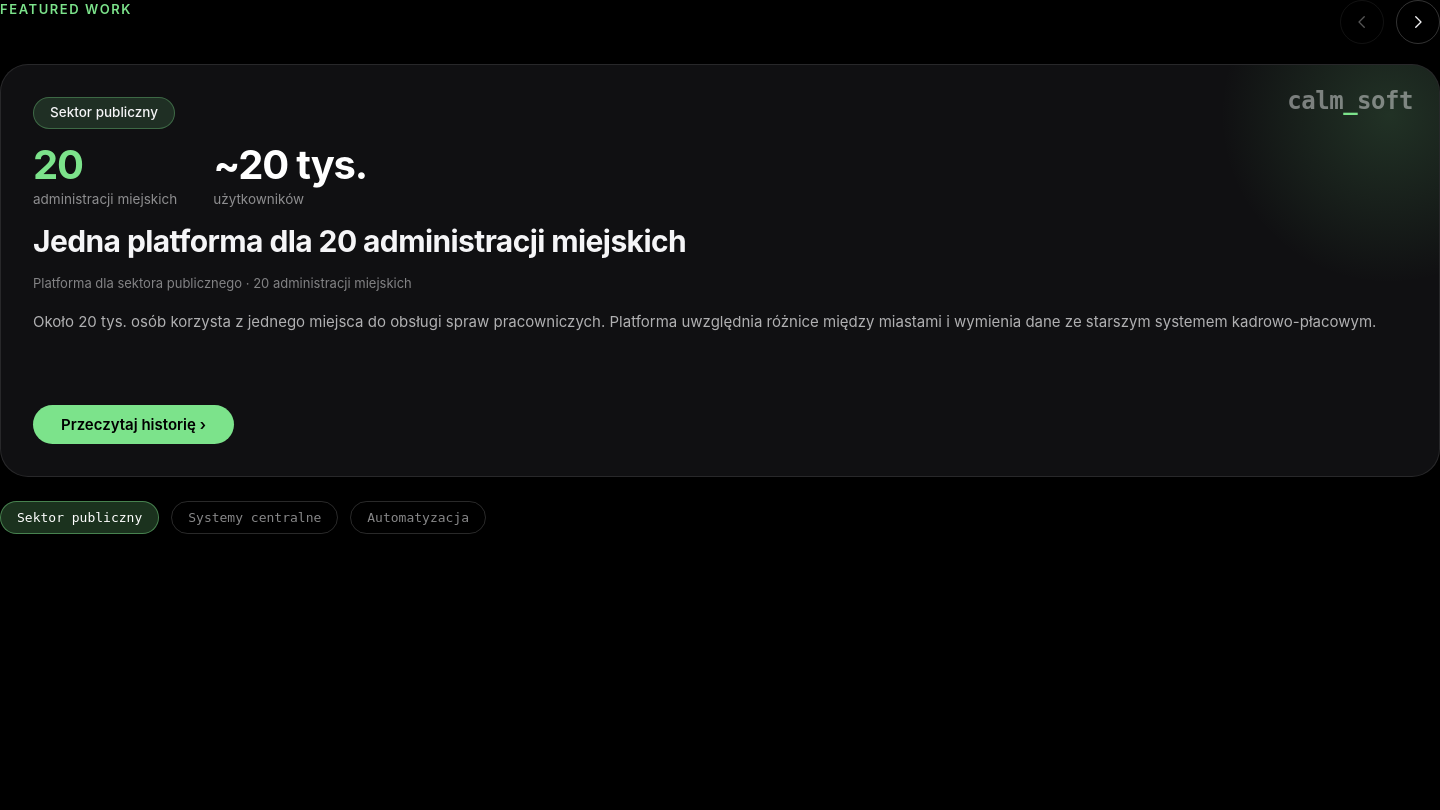
HeroCaseSlider › clicking a case's CTA opens the case modal with that case's headline
Click the button "Przeczytaj historię ›": (133, 425) 33,405 -> 234,444
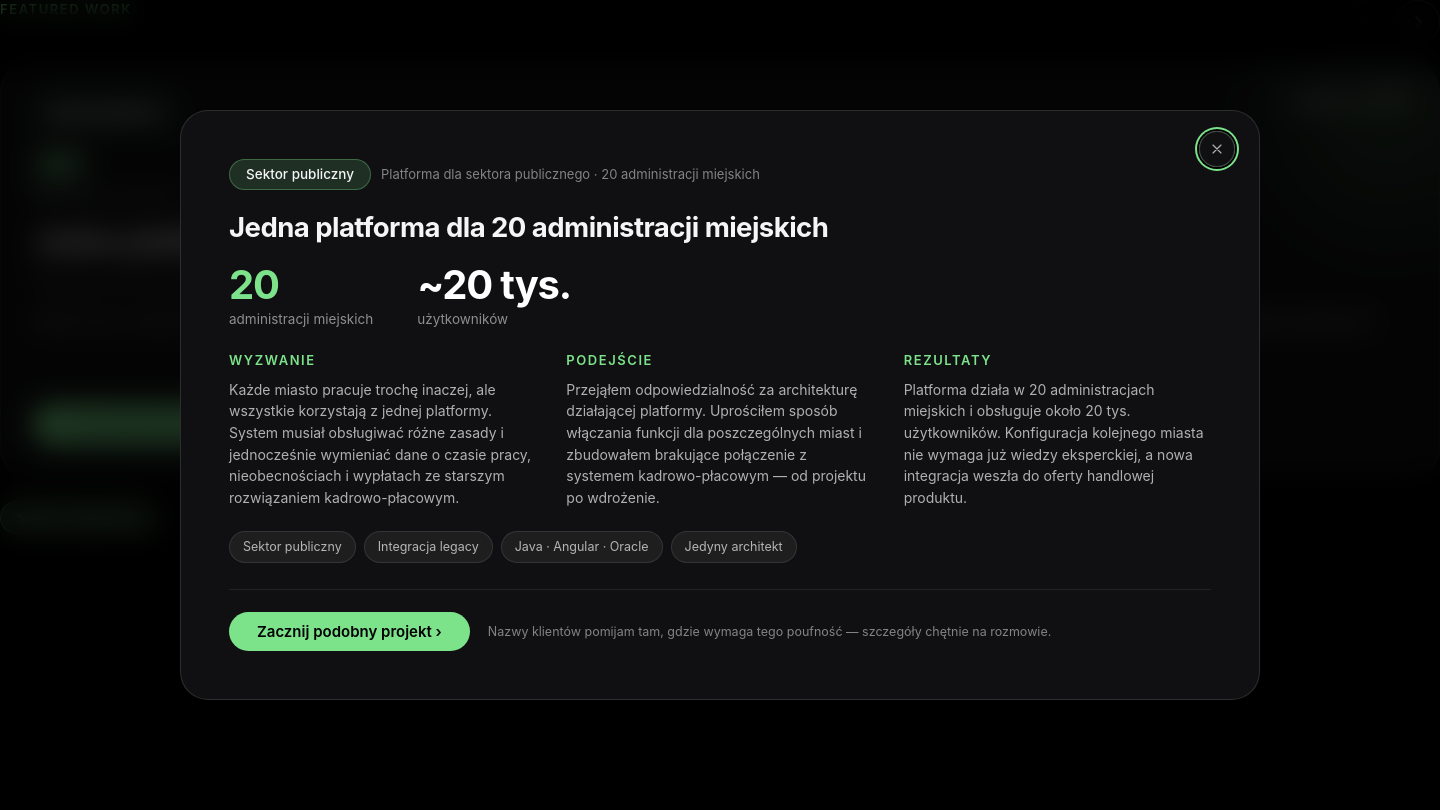
Check: the heading "Jedna platforma dla 20 administracji miejskich" is shown, box 229,210 -> 828,244
